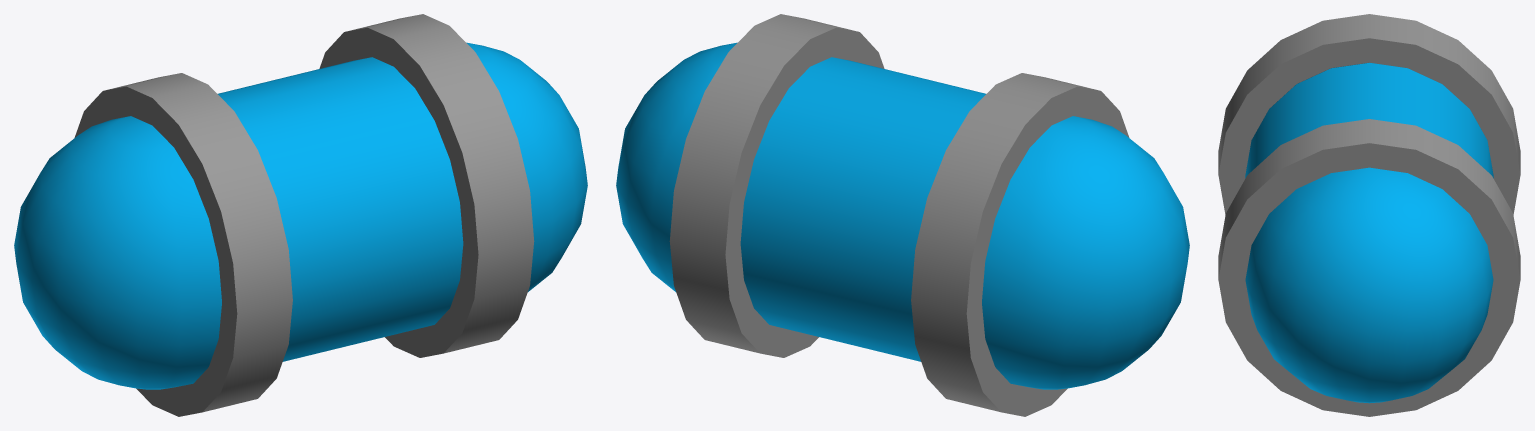
Rendered from boostItem.FBX.
3 views of the same model, side by side, from view 1: azimuth 30°, elevation 25°; view 2: azimuth 150°, elevation 25°; view 3: azimuth 270°, elevation 25° (orthographic). The views are drawn at different scales.
Parts seen in each view (by area): view 1: Sphere001; view 2: Sphere001; view 3: Sphere001.
Boxes of the visible parts, box(x1,y1,x2,y2) form: Sphere001: box(14, 14, 587, 416); Sphere001: box(616, 14, 1189, 416); Sphere001: box(1218, 14, 1520, 416).
Bounding box in the file's own units: 159 × 86.97 × 86.97.
Materials: 1 (1 with a texture image).
